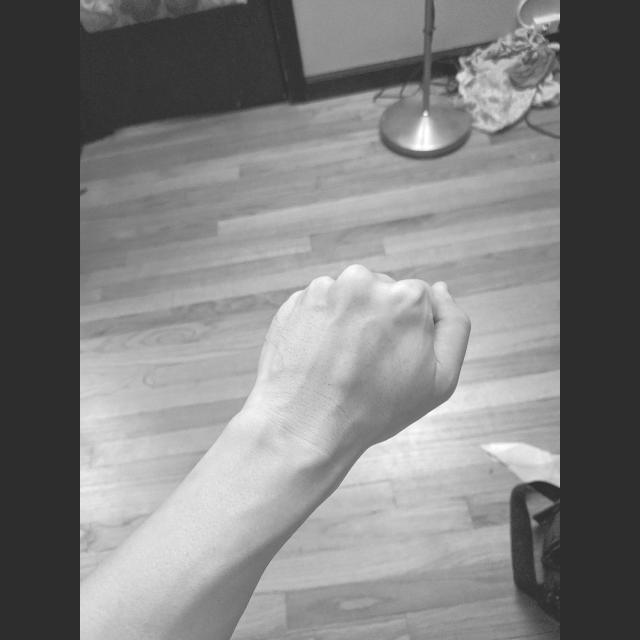A: (246, 259, 474, 459)
